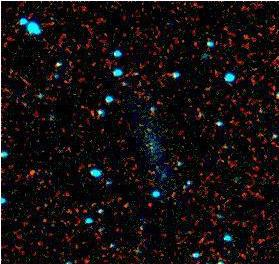star: (15, 152, 45, 182)
